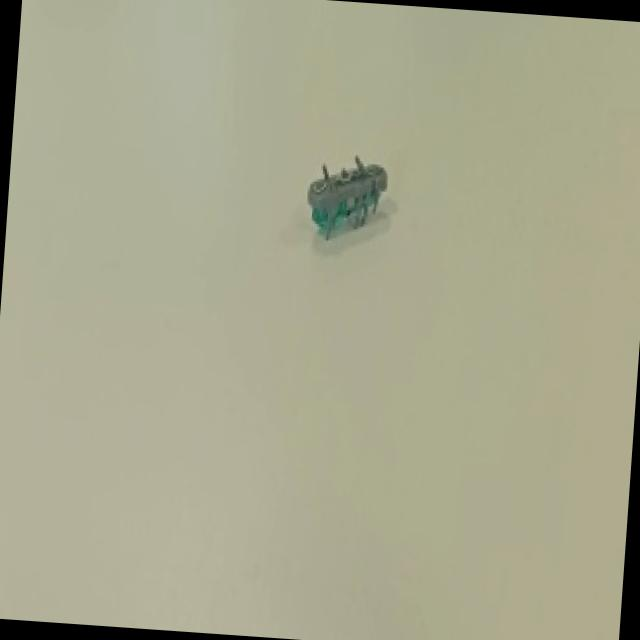5_NanoBug_GrisClaro: (280, 124, 436, 282)
